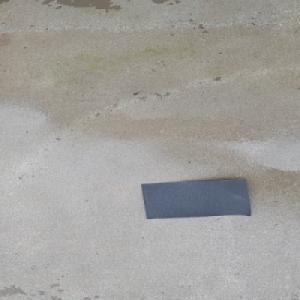PaintChip: (140, 178, 252, 219)
